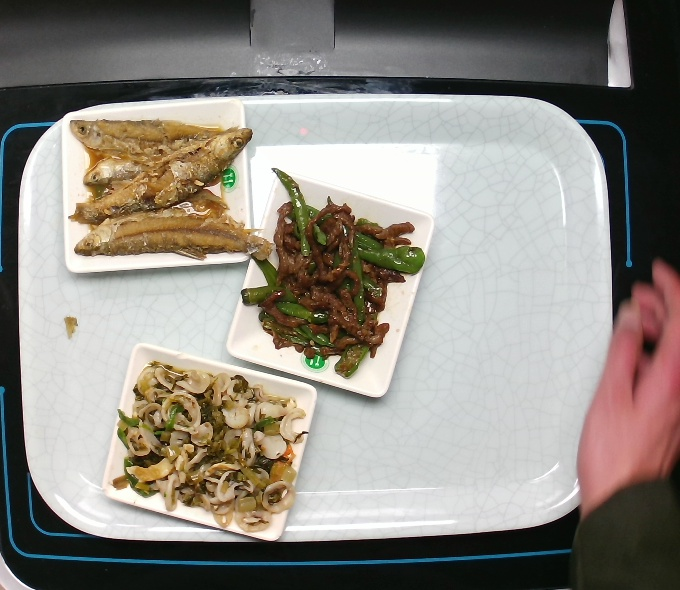wcq-QingJiaoNiuRou: (242, 161, 437, 375)
wcq-XiaoXiYu: (57, 111, 280, 278)
wcq-XueCaiYouYu: (95, 364, 318, 531)
